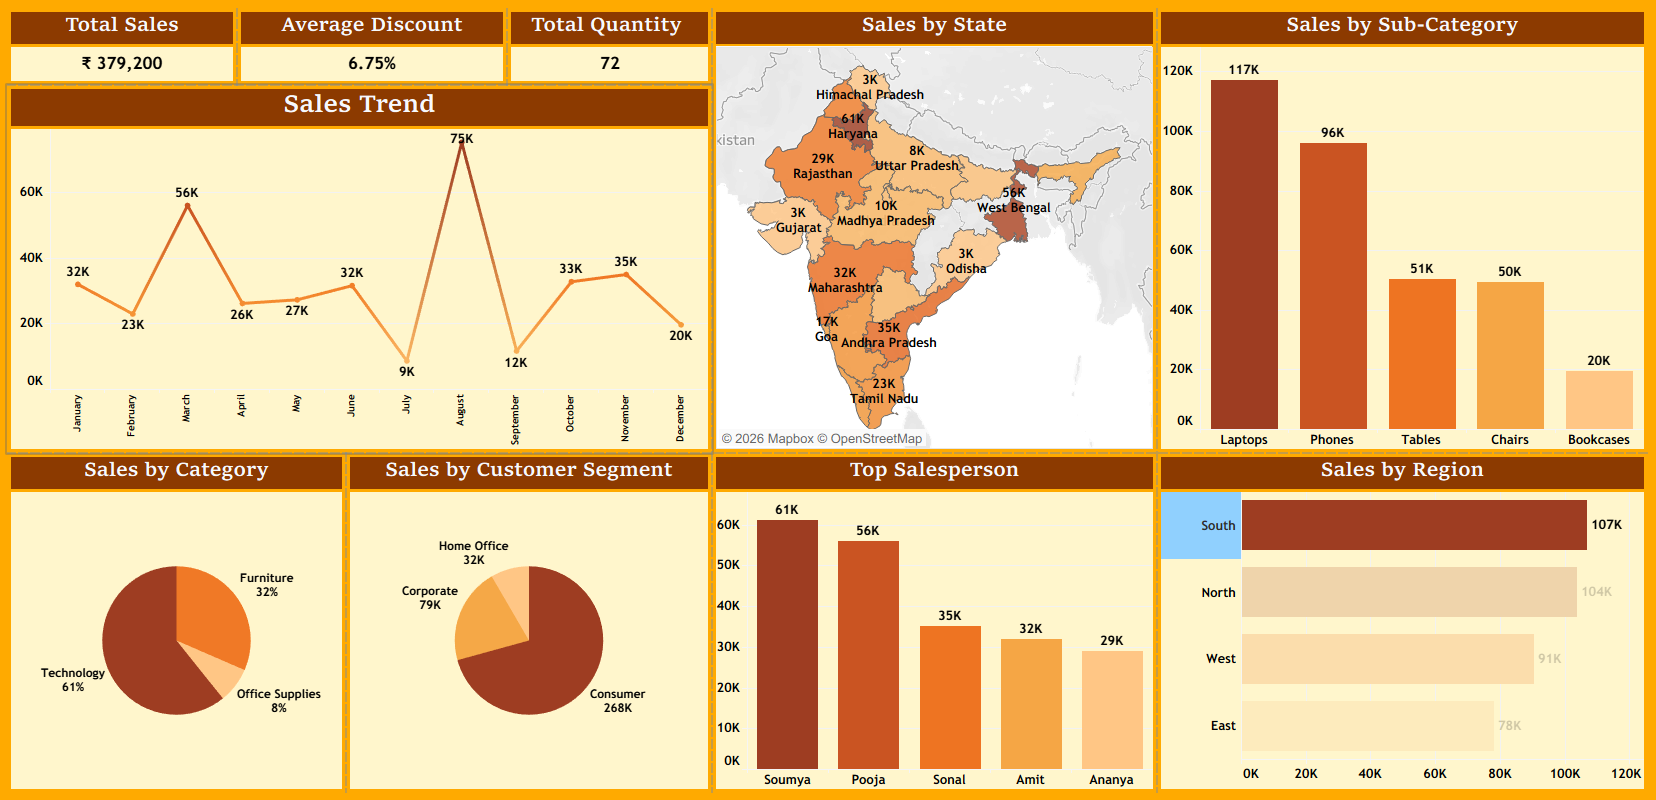

What the dashboard file says about the page in this screenshot:
{"tool":"tableau","page":{"name":"Sales Analysis","canvas":[1000,1000],"units":"permille","ordinal":1},"visuals":[{"type":"worksheet","title":"TS","mark":"Automatic","box":[4.8,10,138.8,96.1]},{"type":"worksheet","title":"AD","mark":"Automatic","box":[143.6,10,163,96.1]},{"type":"worksheet","title":"TQ","mark":"Automatic","box":[306.6,10,123.7,96.1]},{"type":"worksheet","title":"SbS","mark":"Multipolygon","box":[430.3,10,268.6,555.5]},{"type":"worksheet","title":"SSC","mark":"Bar","rows":["Sales"],"cols":["SubCategory"],"box":[698.8,10,296.3,555.5]},{"type":"worksheet","title":"ST","mark":"Automatic","rows":["Sales"],"cols":["OrderDate"],"box":[4.8,106.1,425.4,459.4]},{"type":"worksheet","title":"SC","mark":"Pie","box":[4.8,565.5,204.7,424.5]},{"type":"worksheet","title":"SCS","mark":"Pie","box":[209.5,565.5,220.9,424.5]},{"type":"worksheet","title":"TSP","mark":"Automatic","rows":["Sales"],"cols":["SalesPerson"],"box":[430.5,565.5,268.4,424.5]},{"type":"worksheet","title":"SR","mark":"Bar","rows":["Region"],"cols":["Sales"],"box":[698.8,565.5,296.3,424.5]}]}

Visuals, with their boxes on the dashboard's canvas, which has no fixed pixel size, in thousandths of its width and height (x1, y1, x2, y2). These are canvas units, not pixel positions in the 1656x800 screenshot, which may show the page scaled, cropped or inside an application window:
"TS" worksheet: select_region(5, 10, 144, 106)
"AD" worksheet: select_region(144, 10, 307, 106)
"TQ" worksheet: select_region(307, 10, 430, 106)
"SbS" worksheet (Multipolygon marks): select_region(430, 10, 699, 566)
"SSC" worksheet (Bar marks): select_region(699, 10, 995, 566)
"ST" worksheet: select_region(5, 106, 430, 566)
"SC" worksheet (Pie marks): select_region(5, 566, 210, 990)
"SCS" worksheet (Pie marks): select_region(210, 566, 430, 990)
"TSP" worksheet: select_region(430, 566, 699, 990)
"SR" worksheet (Bar marks): select_region(699, 566, 995, 990)
